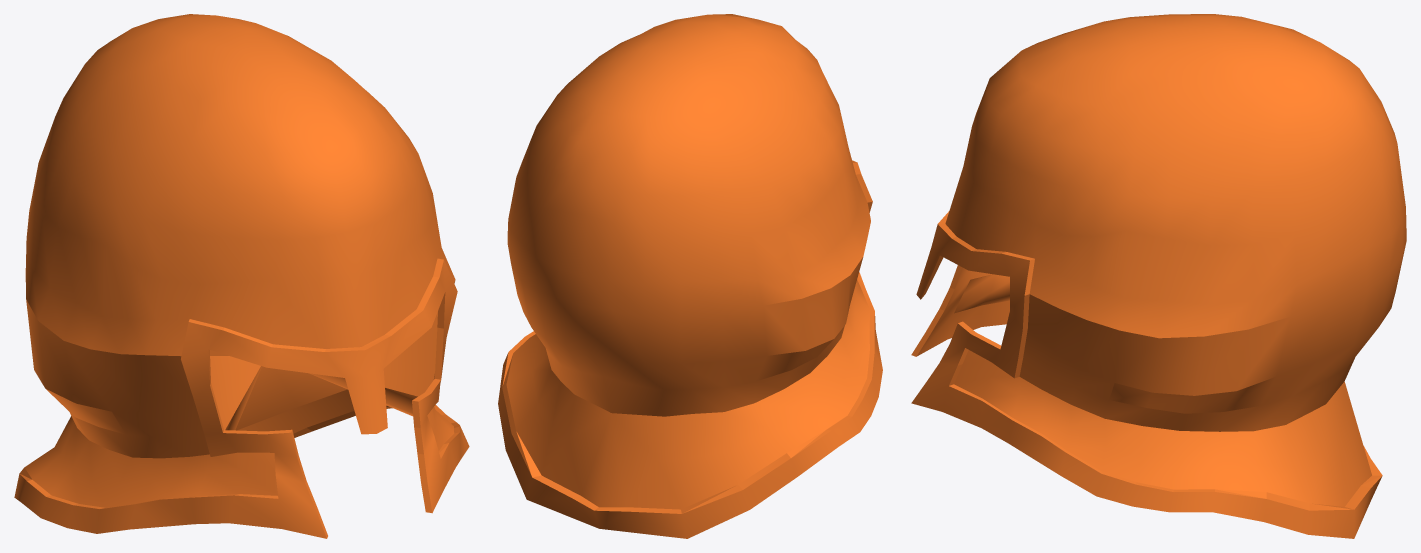
File: helmet_bronze.FBX
3 views of the same model, side by side, from view 1: azimuth 30°, elevation 25°; view 2: azimuth 150°, elevation 25°; view 3: azimuth 270°, elevation 25° (orthographic). The views are drawn at different scales.
Visible parts, largest first — view 1: Sphere001; view 2: Sphere001; view 3: Sphere001.
Part boxes in pixels (<box>): Sphere001: <box>14,14,469,538</box>; Sphere001: <box>498,14,882,538</box>; Sphere001: <box>911,14,1406,538</box>.
Size of the model in its own units: 0.2157 by 0.2578 by 0.2457.
